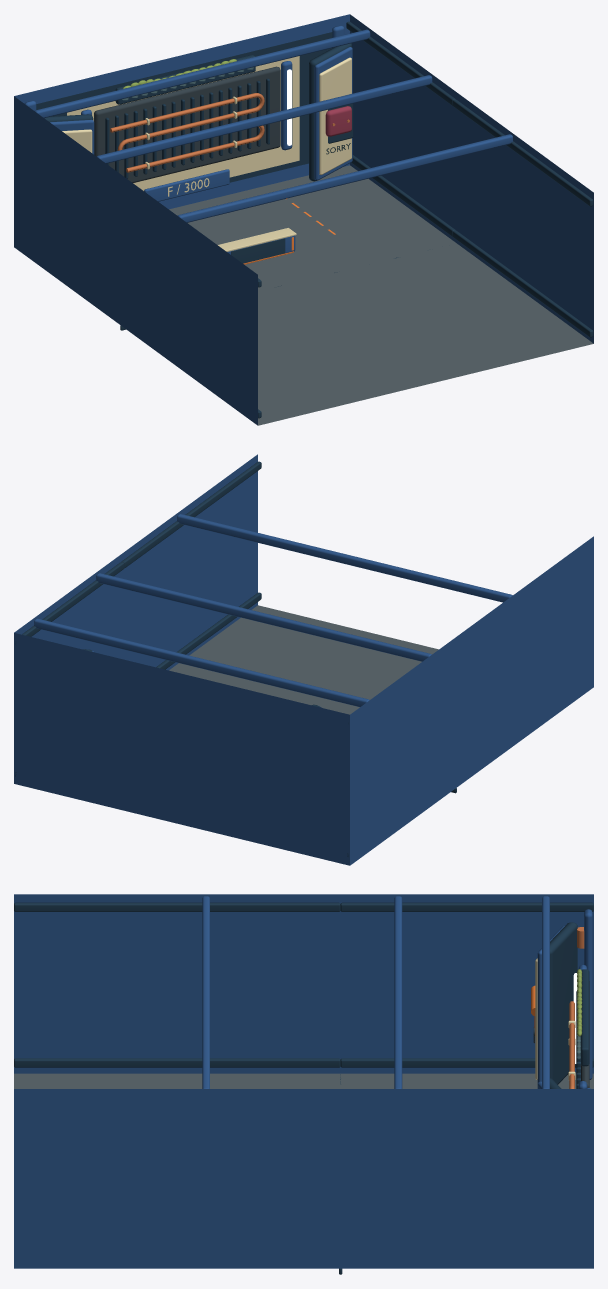
Rendered from garage.glb.
3 renders of one model, top to bottom at view 1: azimuth 30°, elevation 25°; view 2: azimuth 150°, elevation 25°; view 3: azimuth 270°, elevation 25°, orthographic. The views are drawn at different scales.
Parts seen in each view (by area): view 1: Folded service leaves - Cobalt, Floor extension - Oiled steel, Floor - Oiled steel, Service roof - Cobalt, Copper radiator - Iron, Cabinet back - Cobalt, Folded service leaves - Petrol, Copper radiator - Petrol, Cabinet back - Porcelain, Cabinet back - Petrol, Enamel tool door - Porcelain, Copper radiator - Copper (+8 smaller); view 2: Folded service leaves - Cobalt, Cabinet back - Cobalt, Floor extension - Oiled steel, Service roof - Cobalt, Folded service leaves - Petrol; view 3: Folded service leaves - Cobalt, Folded service leaves - Petrol, Floor extension - Oiled steel, Service roof - Cobalt, Enamel tool door - Petrol, Floor - Oiled steel, Cabinet back - Cobalt, Vent and serial plate - Petrol, Enamel tool door - Cobalt.
Part boxes in pixels (x1,y1,x2,y2): Folded service leaves - Cobalt: (14,14,593,425); Floor extension - Oiled steel: (258,243,593,425); Floor - Oiled steel: (169,165,455,291); Service roof - Cobalt: (35,29,512,222); Copper radiator - Iron: (94,66,280,182); Cabinet back - Cobalt: (14,14,349,209); Folded service leaves - Petrol: (258,21,593,418); Copper radiator - Petrol: (105,78,269,178); Cabinet back - Porcelain: (67,56,299,190); Cabinet back - Petrol: (36,32,332,182); Enamel tool door - Porcelain: (62,57,351,174); Copper radiator - Copper: (110,93,264,172); Folded service leaves - Cobalt: (14,454,593,865); Cabinet back - Cobalt: (14,633,349,865); Floor extension - Oiled steel: (169,605,438,714); Service roof - Cobalt: (34,514,512,706); Folded service leaves - Petrol: (15,461,348,856); Folded service leaves - Cobalt: (14,894,593,1268); Folded service leaves - Petrol: (14,902,593,1067); Floor extension - Oiled steel: (14,1073,340,1088); Service roof - Cobalt: (202,896,549,1088); Enamel tool door - Petrol: (550,922,577,1088); Floor - Oiled steel: (340,1073,593,1088); Cabinet back - Cobalt: (584,909,592,1088); Vent and serial plate - Petrol: (581,969,589,1066); Enamel tool door - Cobalt: (537,926,564,1088).
Size of the model in its own units: 19.2 by 8.55 by 24.15.
